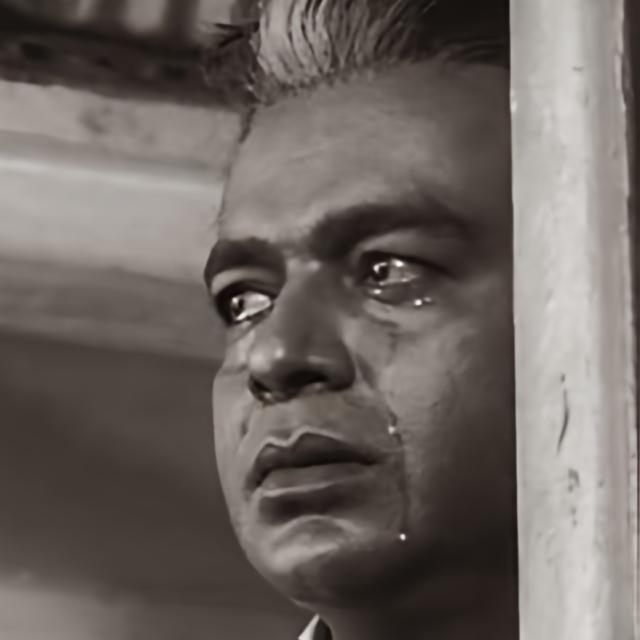disgust: (201, 55, 516, 613)
